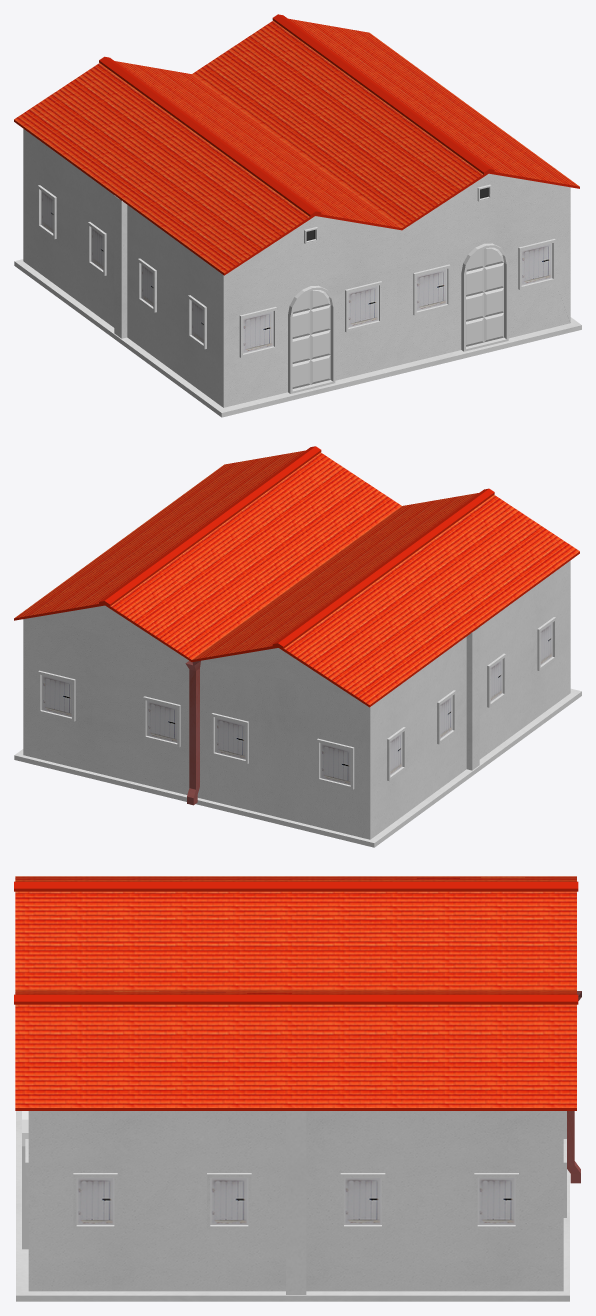
Rendered from House_Semi_D_3.fbx.
3 views of the same model, one above another, from view 1: azimuth 30°, elevation 25°; view 2: azimuth 150°, elevation 25°; view 3: azimuth 270°, elevation 25° (orthographic). The views are drawn at different scales.
Parts seen in each view (by area): view 1: Cube; view 2: Cube; view 3: Cube.
Boxes of the visible parts, box(x1,y1,x2,y2) form: Cube: box(14, 14, 581, 417); Cube: box(14, 446, 581, 847); Cube: box(14, 876, 581, 1301).
Size of the model in its own units: 8.31 by 4.05 by 8.49.
